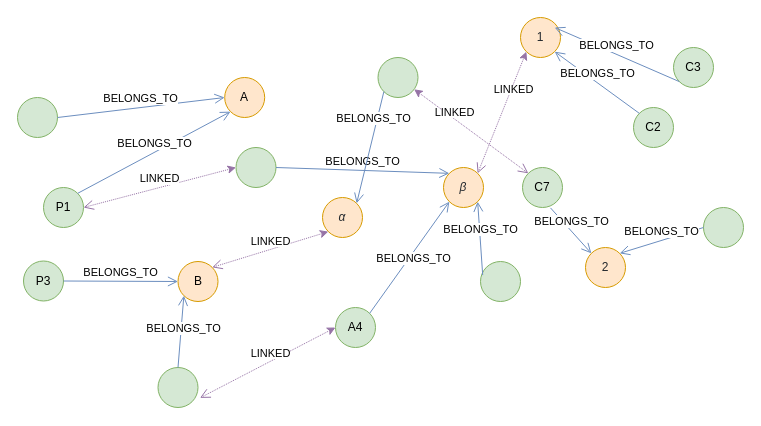
This 761x426 diagram has some shape labels left out. Each missing label, with the centre of its shape:
"A1" goes at (397,77).
"A2" goes at (255,167).
"A3" goes at (500,281).
"C1" goes at (723,227).
"P2" goes at (37,117).
"P4" goes at (177,387).
